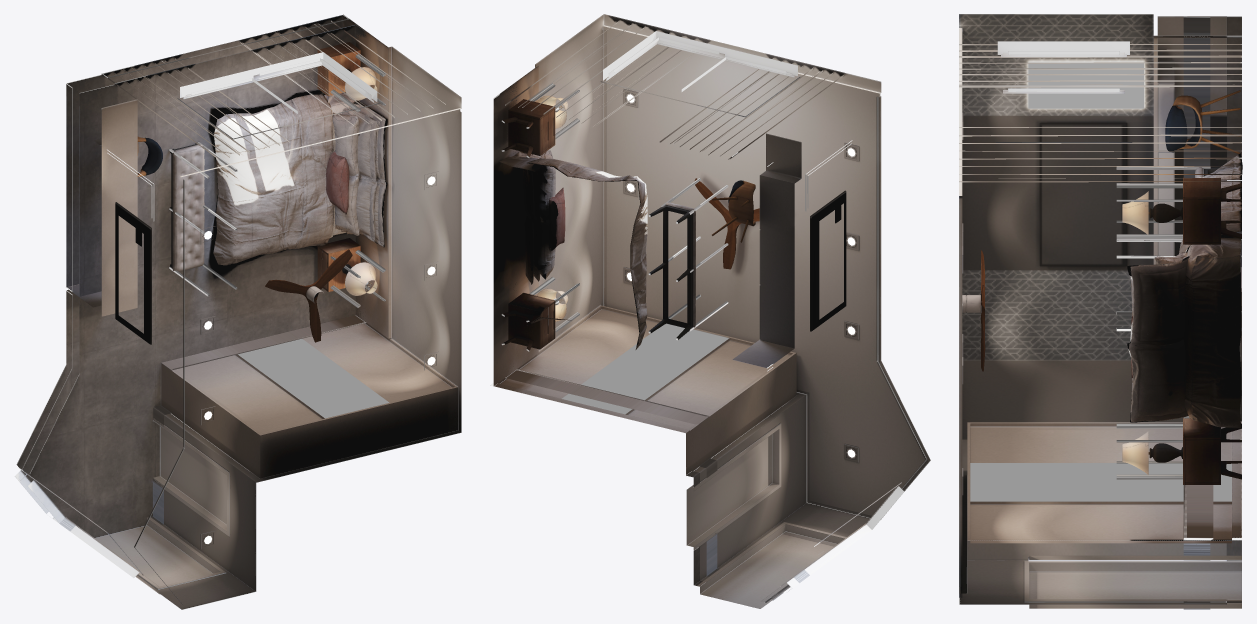
The picture shows the model from 3 angles, left to right: view 1: azimuth 30°, elevation 25°; view 2: azimuth 150°, elevation 25°; view 3: azimuth 270°, elevation 25°; orthographic projection. The views are drawn at different scales.
Visible parts, largest first — view 1: Base; view 2: Base; view 3: Base.
Boxes of the visible parts, x1,y1,x2,y2 form: Base: [14, 14, 461, 609]; Base: [490, 14, 930, 608]; Base: [959, 14, 1242, 609].
Size of the model in its own units: 0.0029 by 0.00386 by 0.00175.
8 materials, 3 textured.
